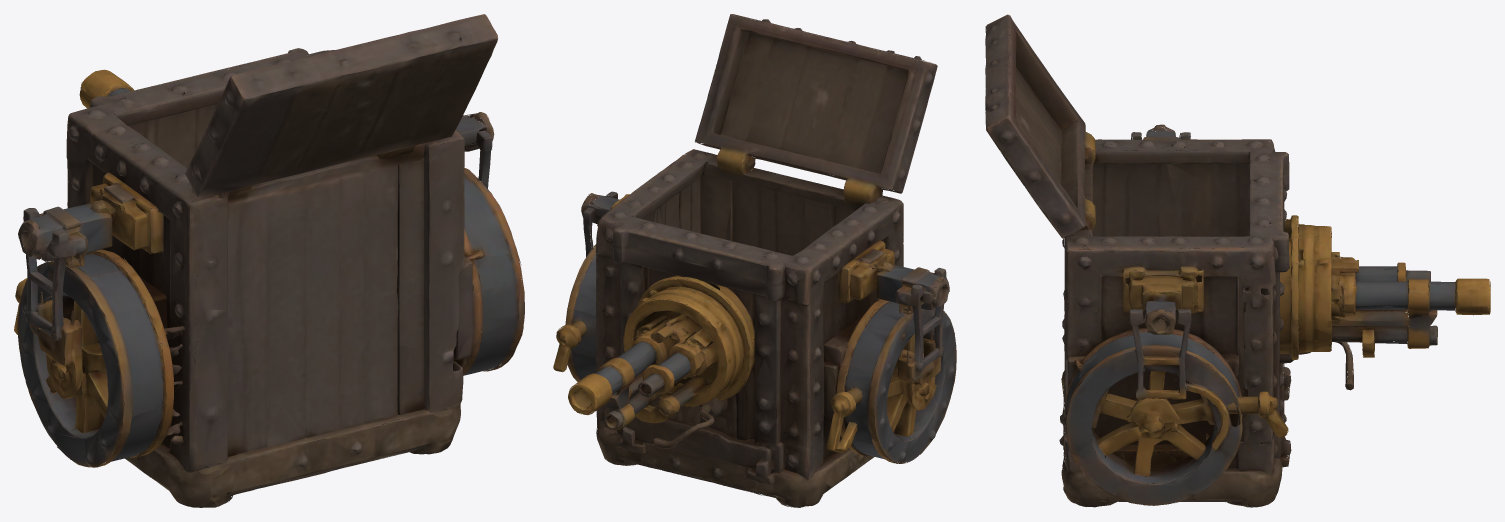
The model's file is cf_homestead_bastion.glb.
3 views of the same model, side by side, from view 1: azimuth 30°, elevation 25°; view 2: azimuth 150°, elevation 25°; view 3: azimuth 270°, elevation 25° (orthographic). The views are drawn at different scales.
Visible parts, largest first — view 1: head, gun; view 2: head, gun; view 3: head, gun.
Boxes of the visible parts, x1,y1,x2,y2 form: head: (14,14,524,507); gun: (79,69,134,108); head: (553,14,956,507); gun: (568,292,736,429); head: (985,14,1353,507); gun: (1310,225,1490,357).
Bounding box in the file's own units: 1.56 × 1.5 × 1.78.
Materials: 1 (1 with a texture image).
